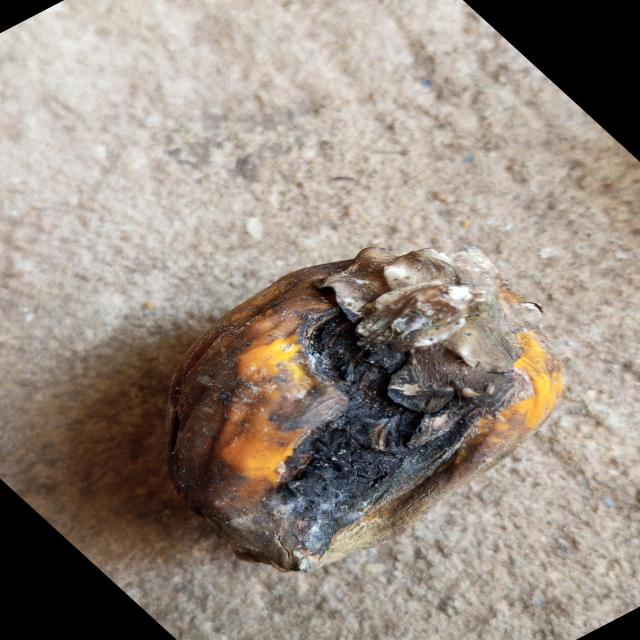damaged: (164, 248, 566, 573)
